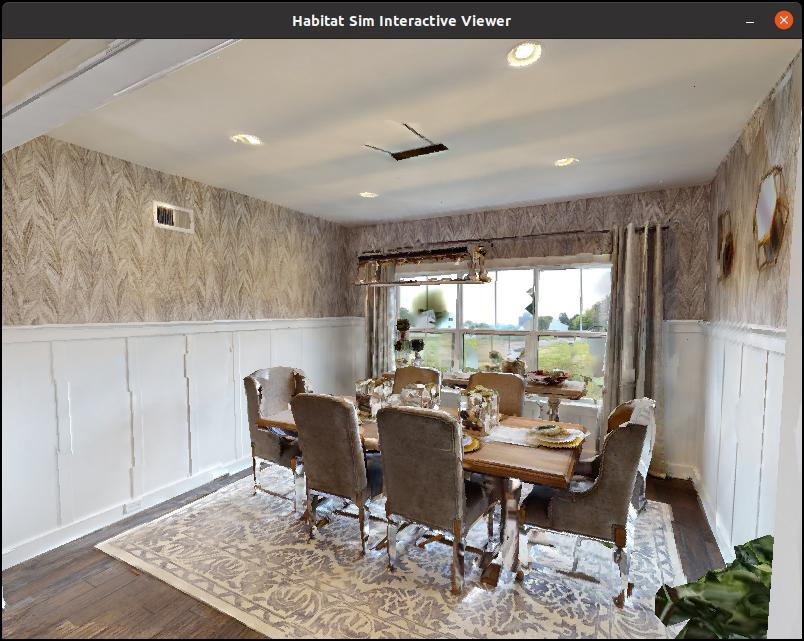chair: (505, 386, 679, 610), (370, 400, 506, 605), (280, 376, 406, 574), (229, 364, 335, 524)
table: (247, 375, 601, 614)
